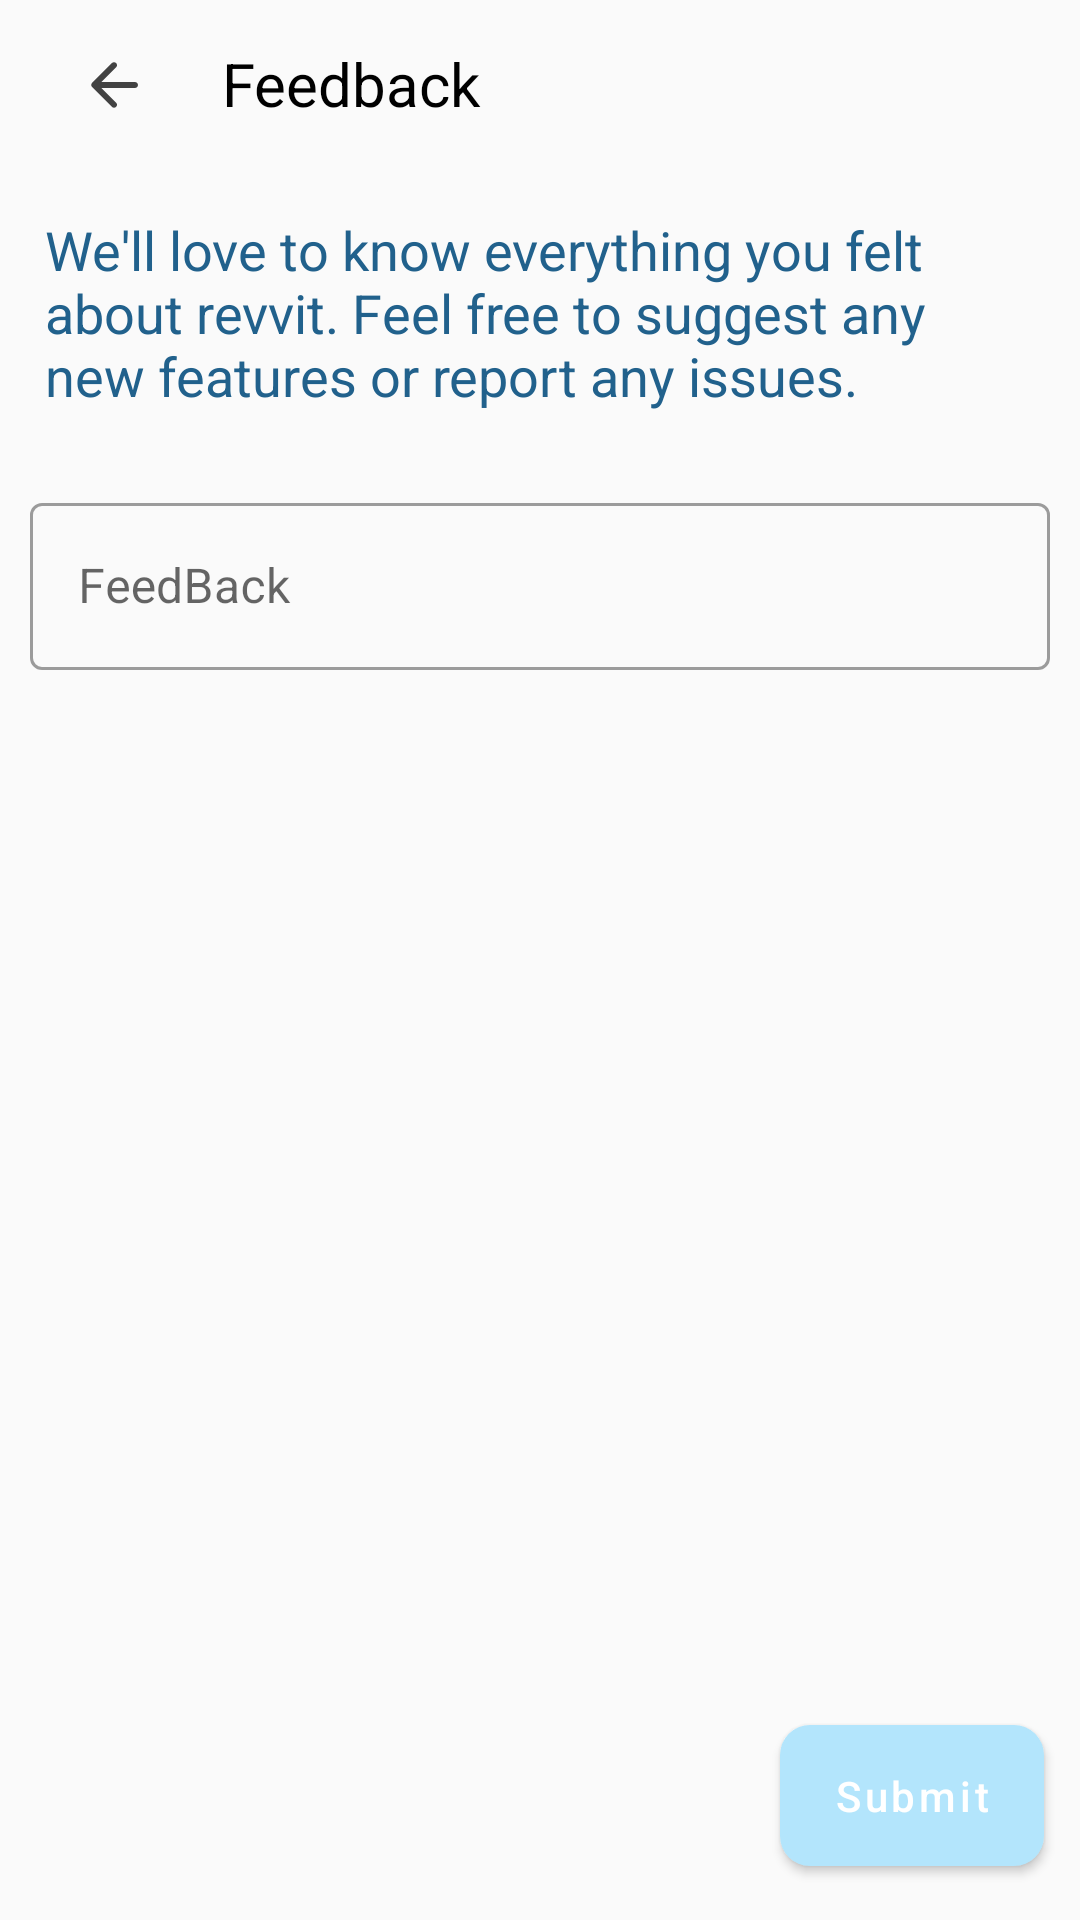

Where icons sit on this 1080 × 1920 app screen, as (x1,y1,x2,y2):
Back Button: (91,62,138,108)
